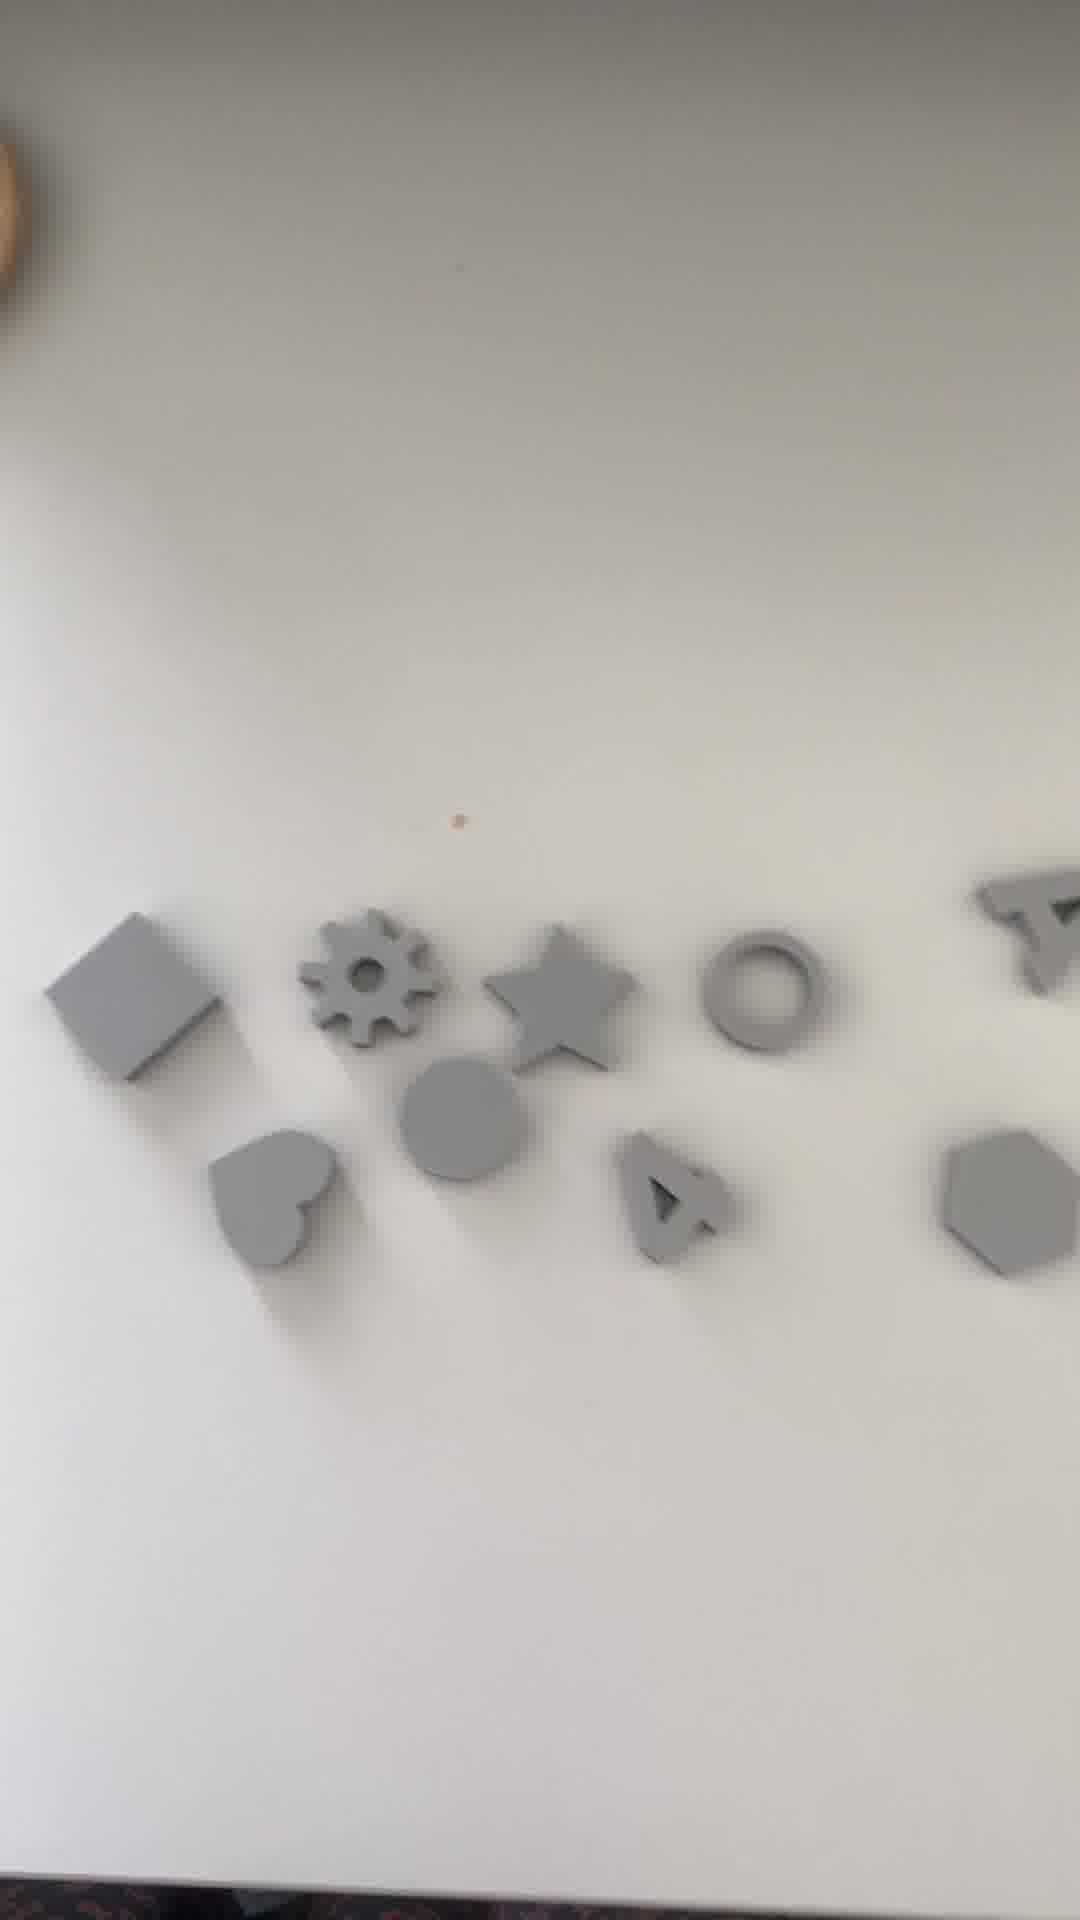Gray A-letter: (968, 862, 1080, 1001)
Gray circle: (388, 1048, 543, 1179)
Gray four: (612, 1127, 746, 1286)
Gray gear: (290, 913, 443, 1063)
Gray heart: (204, 1127, 339, 1267)
Gray hexagon: (919, 1124, 1080, 1291)
Gray ring: (705, 936, 819, 1058)
Gray square: (45, 916, 229, 1091)
Gray star: (487, 932, 637, 1091)
